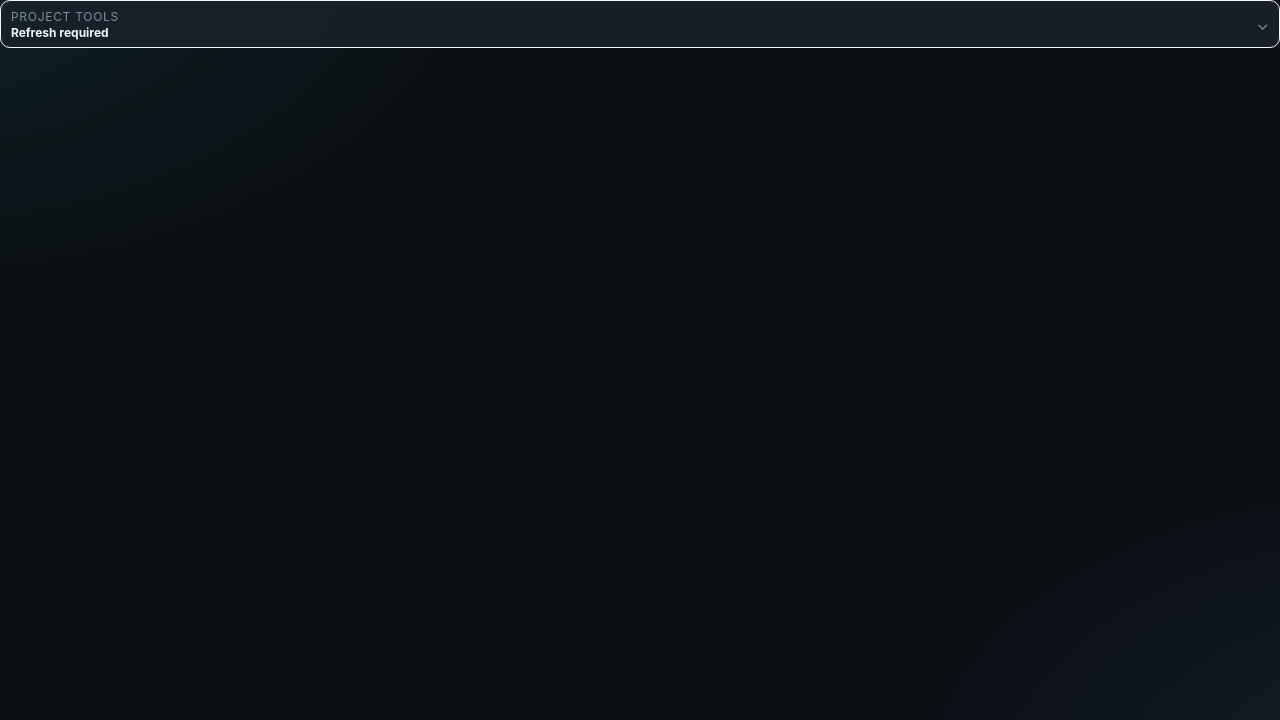
AgentMcpProjectToolsPanel › hides runtime tools when project scope or exact authority disagrees
Expected: the text "Refresh required" is shown, [11,24,119,40]
What coordinates should you click on to do the following:
click the text "Project tools"
I would click on:
 (65, 16)
Its box is [11,9,119,24].
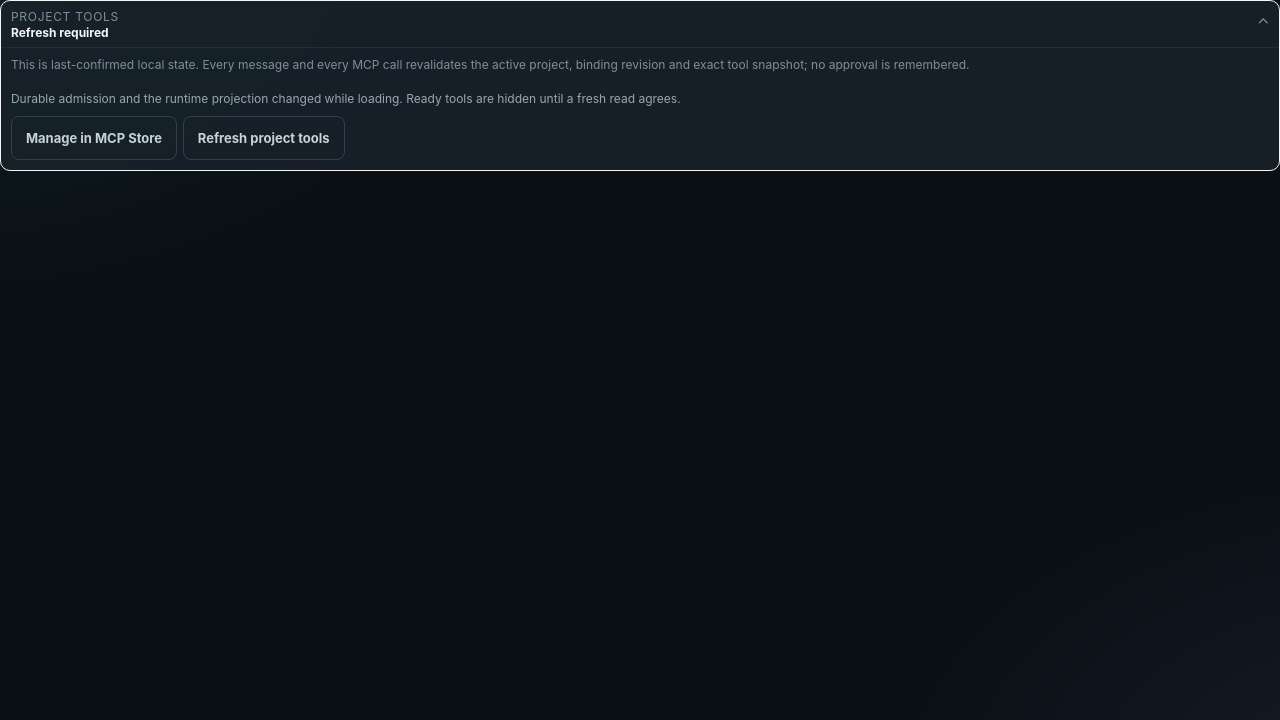
Result: the message shows "Ready tools are hidden" at [11,91,681,106]
